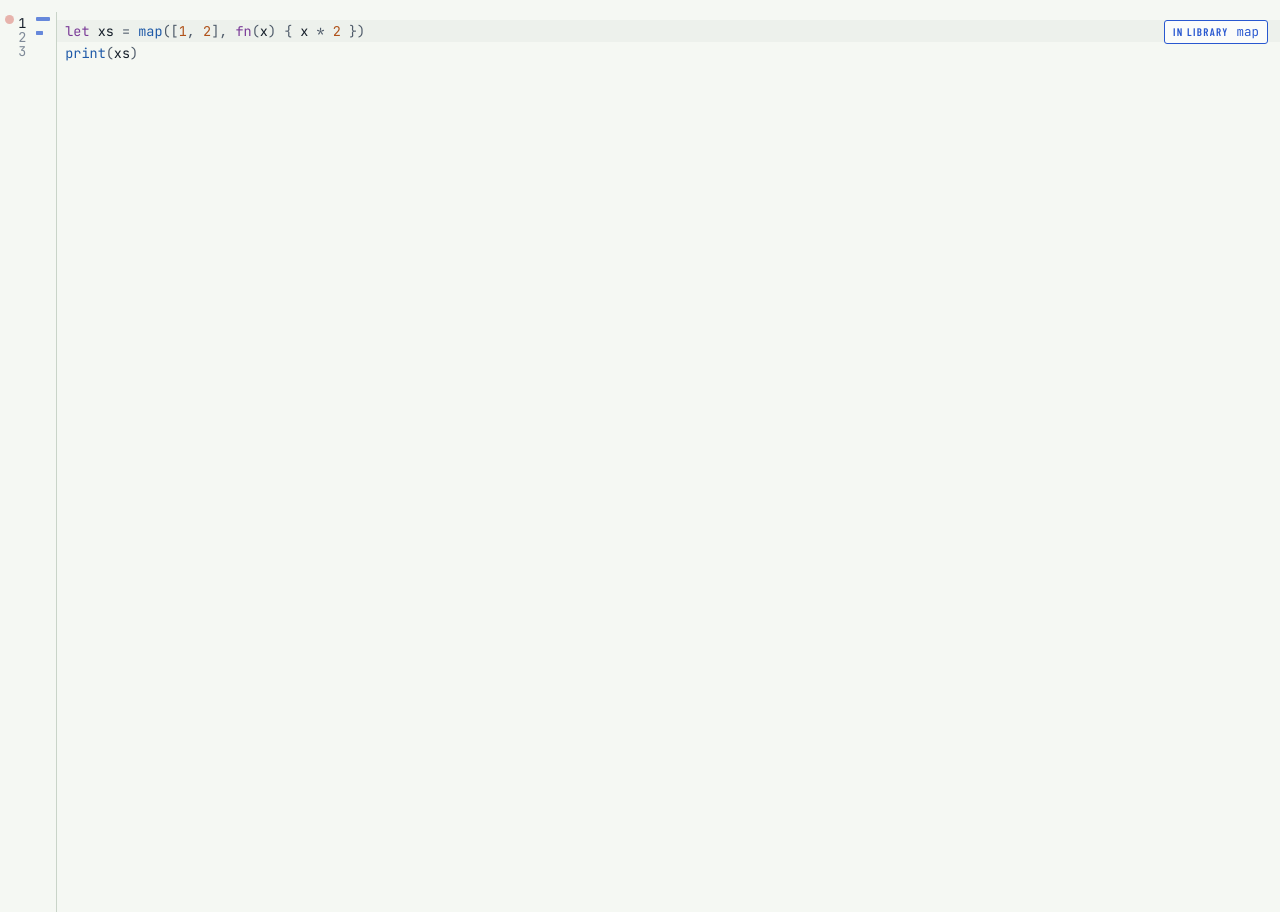
Editor › the library chip explains library code
Click the button "in library map": point(1216, 32) [1164,20,1268,44]
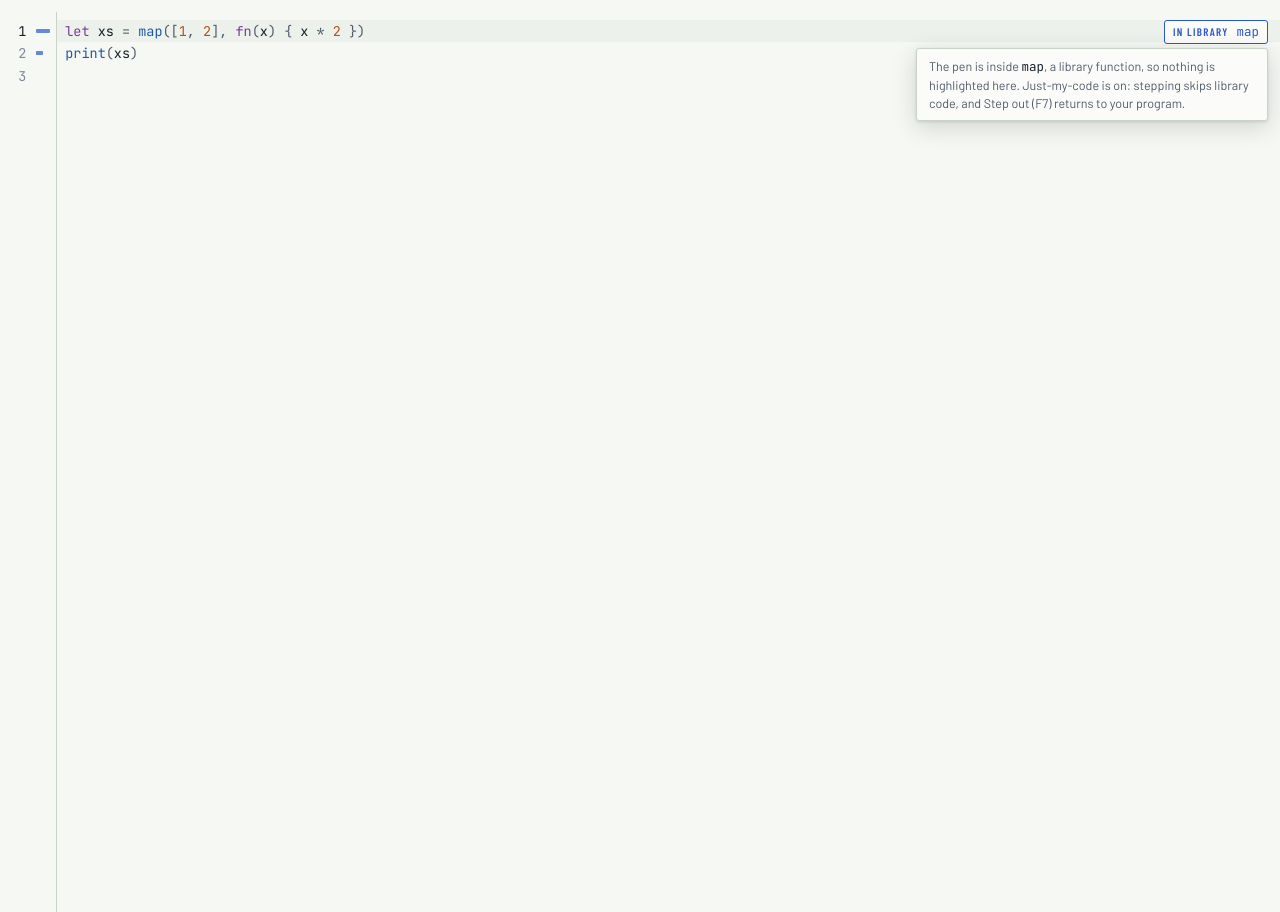
Check: the text "library function" is shown, box [929,58,1215,93]
